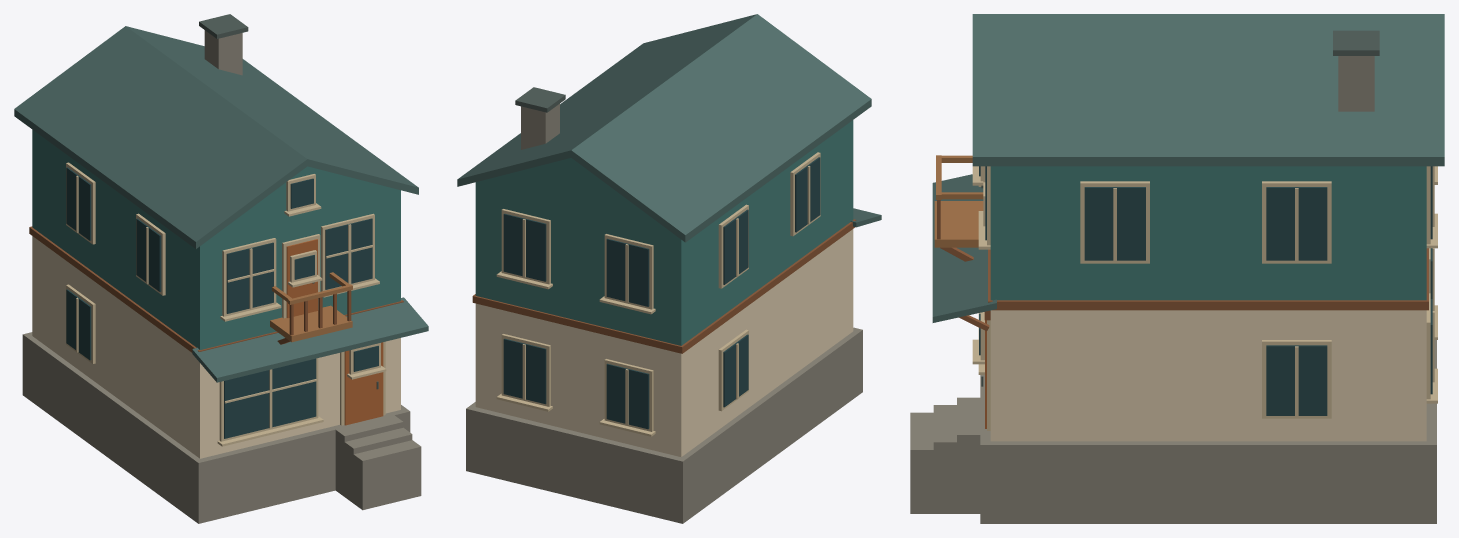
File: shop_home.meshopt.glb
3 views of the same model, side by side, from view 1: azimuth 30°, elevation 25°; view 2: azimuth 150°, elevation 25°; view 3: azimuth 270°, elevation 25° (orthographic). The views are drawn at different scales.
Parts seen in each view (by area): view 1: shop_home; view 2: shop_home; view 3: shop_home.
Boxes of the visible parts, x1,y1,x2,y2 form: shop_home: (14,14,428,523); shop_home: (457,14,881,523); shop_home: (910,14,1444,523).
Bounding box in the file's own units: 6.44 × 9.72 × 10.3.
